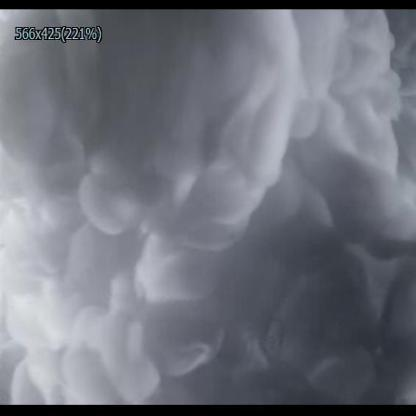smoke: (15, 52, 246, 235), (258, 13, 396, 216), (100, 241, 235, 379)
